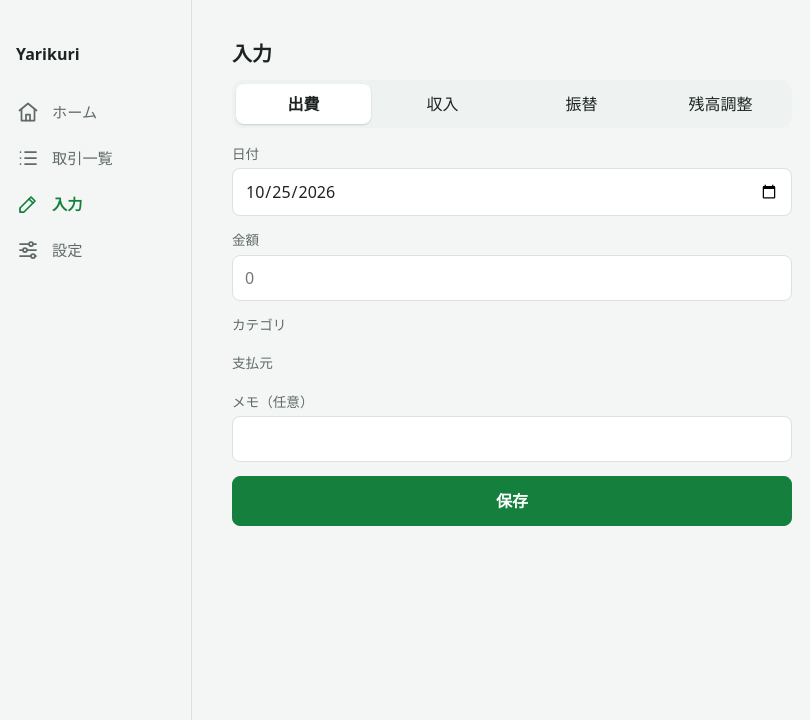
Test: 連続入力 › 保存できなかったときは入力内容を残す
In the field labelled "メモ": [512, 439] box x1=232 y1=416 x2=792 y2=462, type "スーパー"
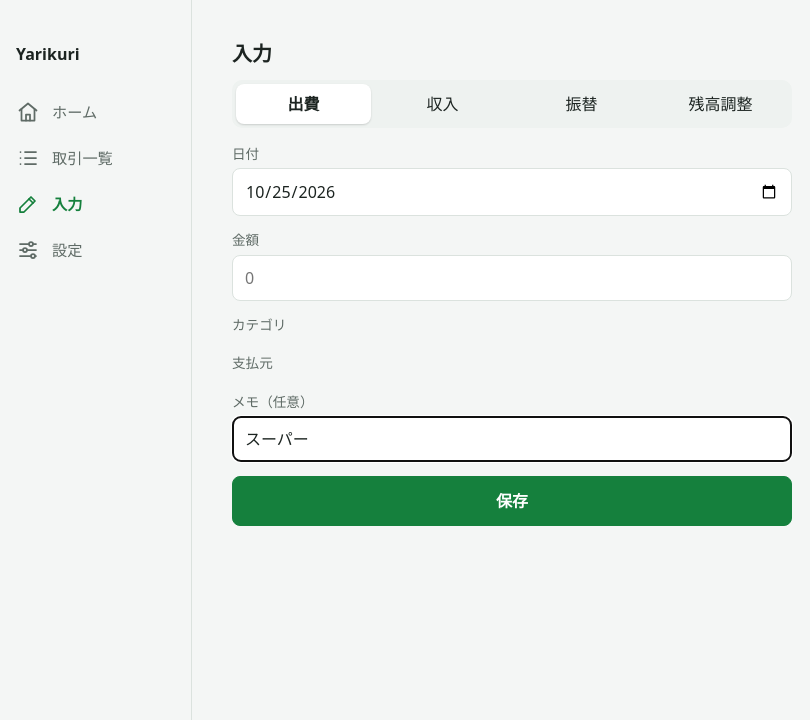
Click the button "保存": [512, 501] box x1=232 y1=476 x2=792 y2=526
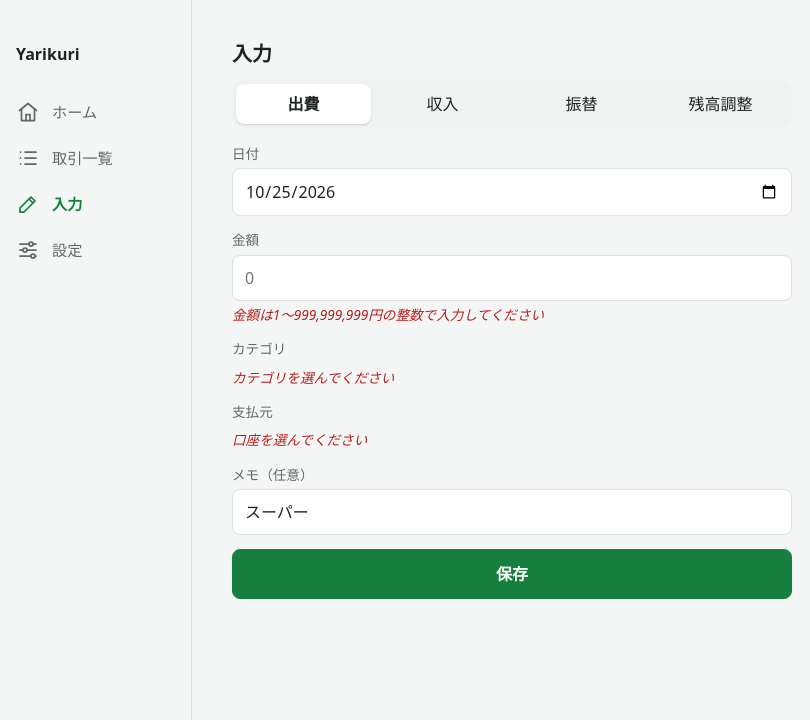
Result: the message shows "金額は1〜999,999,999円" at x1=232 y1=305 x2=544 y2=324
